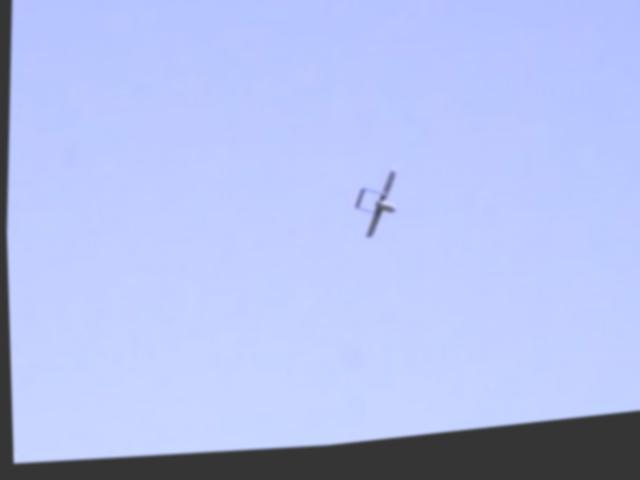uav: (351, 175, 401, 250)
